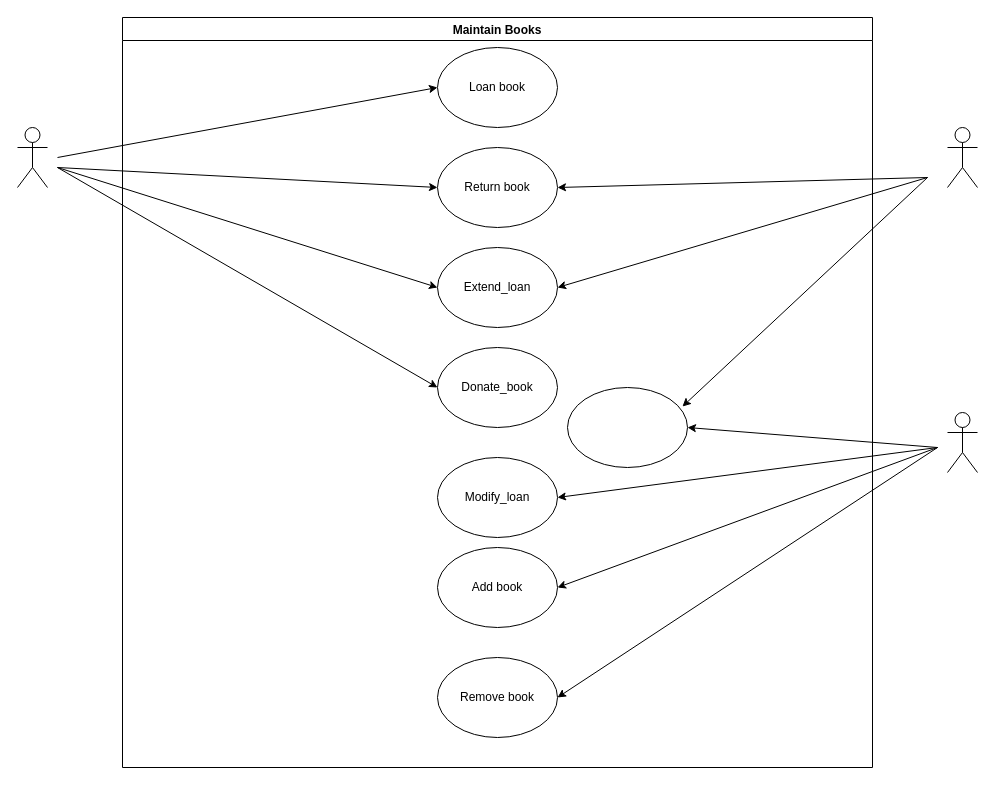
The diagram is 1003 pixels wide and 785 high, and some of its shapes have lost their labels. The centre of each missing label's shape, as x and y in pixels:
"Manager" belongs at point (962, 442).
"Search_book" belongs at point (627, 427).
"Staff" belongs at point (962, 157).
"User" belongs at point (32, 157).
